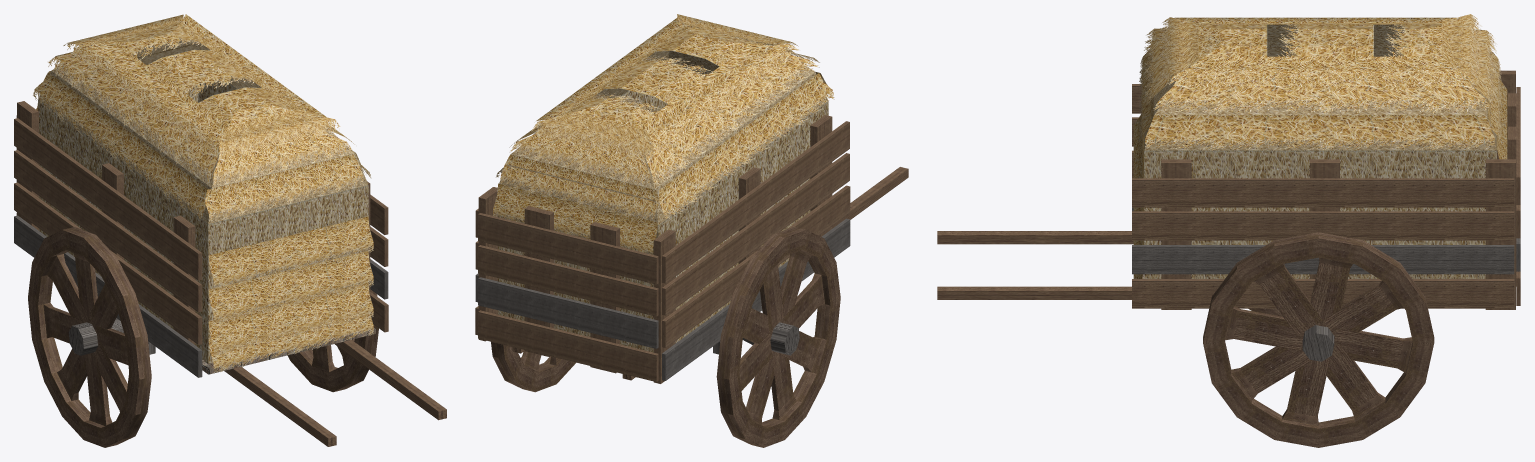
Rendered from cart_hay.FBX.
The picture shows the model from 3 angles, left to right: view 1: azimuth 30°, elevation 25°; view 2: azimuth 150°, elevation 25°; view 3: azimuth 270°, elevation 25°; orthographic projection. The views are drawn at different scales.
Visible parts, largest first — view 1: Box03, Tube04, Plane10, Box31, Box32, Plane11, Plane16, Plane18, Plane20, Plane12, Plane13, Plane14 (+18 smaller); view 2: Box03, Tube04, Plane10, Box31, Box32, Plane11, Box27, Box26, Box28, Box29, Plane12, Plane09 (+16 smaller); view 3: Tube03, Box03, Box30, Box33, Plane01, Plane03, Box34, Plane05, Box21, Object20, Object19, Plane12 (+13 smaller).
Boxes of the visible parts, <box> form: Box03: <box>38,22,368,363</box>; Tube04: <box>28,227,151,447</box>; Plane10: <box>33,72,207,220</box>; Box31: <box>14,118,202,280</box>; Box32: <box>14,150,202,312</box>; Plane11: <box>48,47,219,183</box>; Plane16: <box>208,216,373,289</box>; Plane18: <box>208,251,373,323</box>; Plane20: <box>208,282,373,355</box>; Plane12: <box>67,41,226,157</box>; Plane13: <box>205,154,363,220</box>; Plane14: <box>213,124,351,186</box>; Box03: <box>498,23,828,352</box>; Tube04: <box>716,227,840,447</box>; Plane10: <box>659,73,834,219</box>; Box31: <box>662,121,849,283</box>; Box32: <box>662,153,849,315</box>; Plane11: <box>645,50,819,184</box>; Box27: <box>478,277,658,348</box>; Box26: <box>478,310,658,381</box>; Box28: <box>478,245,658,316</box>; Box29: <box>478,213,658,284</box>; Plane12: <box>637,43,799,157</box>; Plane09: <box>500,154,658,220</box>; Tube03: <box>1203,232,1434,447</box>; Box03: <box>1144,24,1496,278</box>; Box30: <box>1132,178,1514,207</box>; Box33: <box>1132,211,1514,240</box>; Plane01: <box>1145,115,1494,150</box>; Plane03: <box>1153,73,1490,113</box>; Box34: <box>1132,245,1514,274</box>; Plane05: <box>1168,56,1475,87</box>; Box21: <box>1132,279,1514,308</box>; Object20: <box>937,231,1133,244</box>; Object19: <box>937,286,1131,299</box>; Plane12: <box>1174,17,1455,24</box>.
Bounding box in the file's own units: 57.59 × 72.44 × 110.
